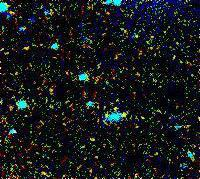star: (111, 98, 141, 128)
